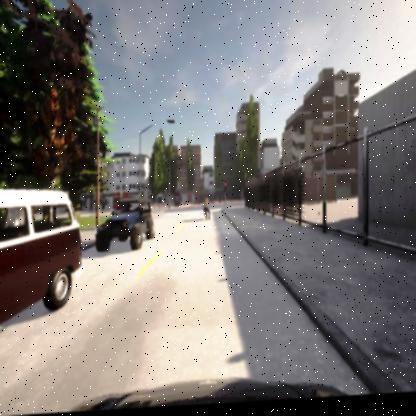bike: (202, 200, 211, 223)
vehicle: (96, 198, 155, 255)
